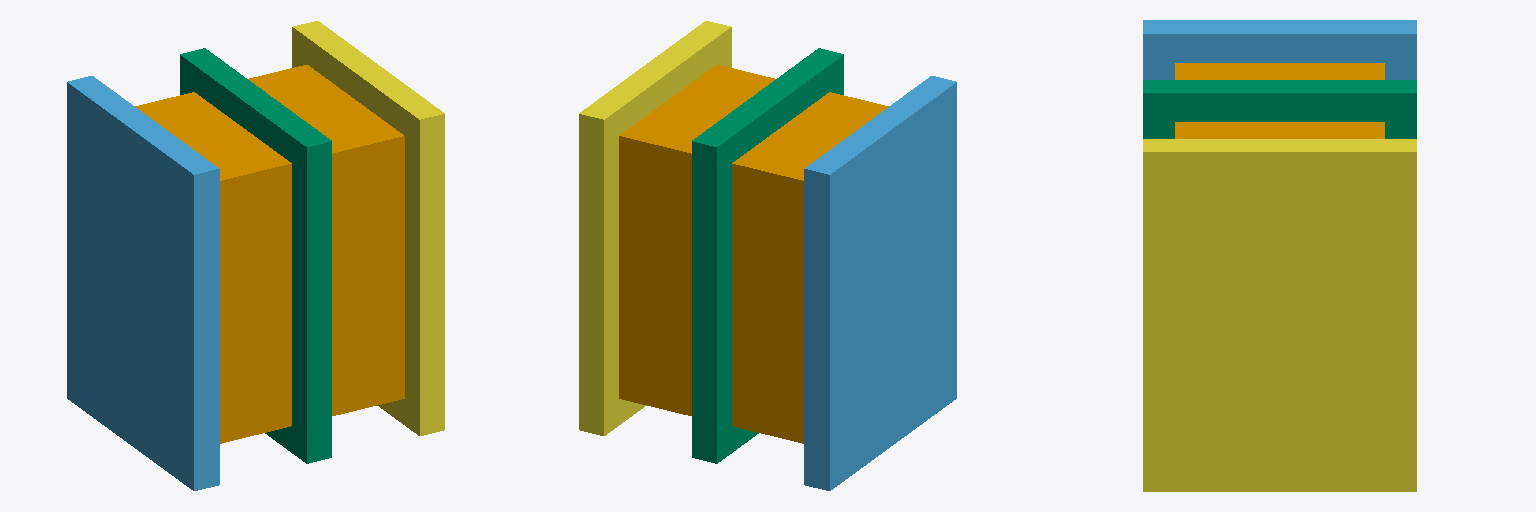
The robot description file, URDF, robot "debris025":
<?xml version="1.0" ?>
<robot name="debris025">

<link name="debris025">
<visual> <origin xyz="0 0 0" rpy="0 0 0" />
<geometry> <box size="0.48 0.33 0.49"/> </geometry>
</visual>
<collision> <origin xyz="0 0 0" rpy="0 0 0" />
<geometry> <box size="0.48 0.33 0.49"/> </geometry>
</collision>
<inertial> <origin xyz="0 0 0" rpy="0 0 0" />
<mass value="10.0" />
<inertia ixx="0.3120" ixy="0" ixz="0" iyy="0.3120" iyz="0" izz="0.3120" />
</inertial>
</link>
<gazebo reference="debris025"> <material>Gazebo/Tree</material> </gazebo>

<link name="debris0250">
<visual> <origin xyz="-0.22 0 0" rpy="0 0 0" />
<geometry> <box size="0.05 0.43 0.59"/> </geometry>
</visual>
<collision> <origin xyz="-0.22 0 0" rpy="0 0 0" />
<geometry> <box size="0.05 0.43 0.59"/> </geometry>
</collision>
<inertial> <origin xyz="0 0 0" rpy="0 0 0" />
<mass value="0.1" />
<inertia ixx="0.0100" ixy="0" ixz="0" iyy="0.0100" iyz="0" izz="0.0100" />
</inertial>
</link>
<gazebo reference="debris0250"> <material>Gazebo/Tree</material> </gazebo>

<joint name="debris0250joint" type="fixed">
<parent link="debris025"/>
<child link="debris0250"/>
<origin xyz="0 0 0" rpy="0 0 0" />
</joint>

<link name="debris0251">
<visual> <origin xyz="0.00 0 0" rpy="0 0 0" />
<geometry> <box size="0.05 0.43 0.59"/> </geometry>
</visual>
<collision> <origin xyz="0.00 0 0" rpy="0 0 0" />
<geometry> <box size="0.05 0.43 0.59"/> </geometry>
</collision>
<inertial> <origin xyz="0 0 0" rpy="0 0 0" />
<mass value="0.1" />
<inertia ixx="0.0100" ixy="0" ixz="0" iyy="0.0100" iyz="0" izz="0.0100" />
</inertial>
</link>
<gazebo reference="debris0251"> <material>Gazebo/Tree</material> </gazebo>

<joint name="debris0251joint" type="fixed">
<parent link="debris025"/>
<child link="debris0251"/>
<origin xyz="0 0 0" rpy="0 0 0" />
</joint>

<link name="debris0252">
<visual> <origin xyz="0.22 0 0" rpy="0 0 0" />
<geometry> <box size="0.05 0.43 0.59"/> </geometry>
</visual>
<collision> <origin xyz="0.22 0 0" rpy="0 0 0" />
<geometry> <box size="0.05 0.43 0.59"/> </geometry>
</collision>
<inertial> <origin xyz="0 0 0" rpy="0 0 0" />
<mass value="0.1" />
<inertia ixx="0.0100" ixy="0" ixz="0" iyy="0.0100" iyz="0" izz="0.0100" />
</inertial>
</link>
<gazebo reference="debris0252"> <material>Gazebo/Tree</material> </gazebo>

<joint name="debris0252joint" type="fixed">
<parent link="debris025"/>
<child link="debris0252"/>
<origin xyz="0 0 0" rpy="0 0 0" />
</joint>

</robot>

--- Facts derived from the render (not from the file) ---
The picture shows the robot from 3 angles, left to right: view 1: azimuth 30°, elevation 25°; view 2: azimuth 150°, elevation 25°; view 3: azimuth 270°, elevation 25°; orthographic projection.
Model debris025 with 4 links and 3 joints (3 fixed), rooted at debris025, posed all joints at 0.
Visible links, largest first — view 1: debris0250, debris025, debris0252, debris0251; view 2: debris0250, debris025, debris0252, debris0251; view 3: debris0252, debris0250, debris0251, debris025.
Boxes of the visible links, x1,y1,x2,y2 form: debris0250: (67, 76, 219, 490); debris025: (135, 65, 404, 443); debris0252: (292, 21, 444, 435); debris0251: (180, 48, 331, 463); debris0250: (804, 76, 956, 490); debris025: (619, 65, 888, 443); debris0252: (579, 21, 731, 435); debris0251: (692, 48, 843, 463); debris0252: (1143, 139, 1416, 491); debris0250: (1143, 20, 1416, 79); debris0251: (1143, 80, 1416, 138); debris025: (1175, 63, 1384, 138).
Bounding box of the posed robot: 0.49 × 0.43 × 0.59 m (x, y, z).
Geometry: primitives only (box / cylinder / sphere), no mesh files.
